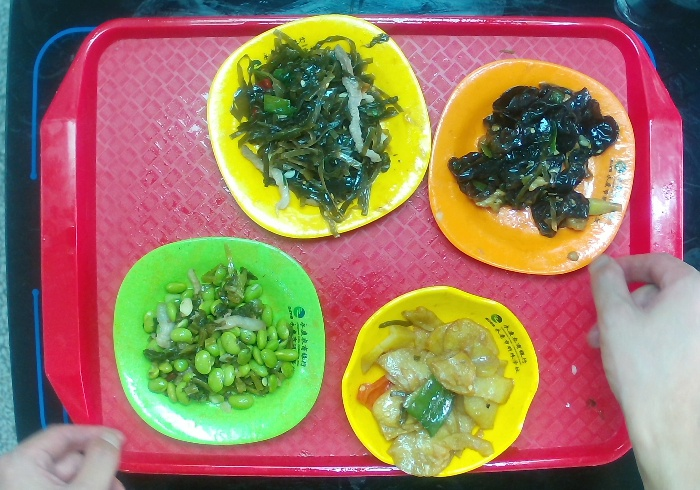YKMZ-Huang_Se_Ao_Bian_Wan: (339, 283, 543, 481)
YKMZ-Huang_Se_Fang_Die: (202, 12, 435, 241)
YKMZ-Ju_Se_Fang_Die: (424, 54, 640, 280)
YKMZ-Lv_Se_Fang_Die: (107, 231, 330, 446)
